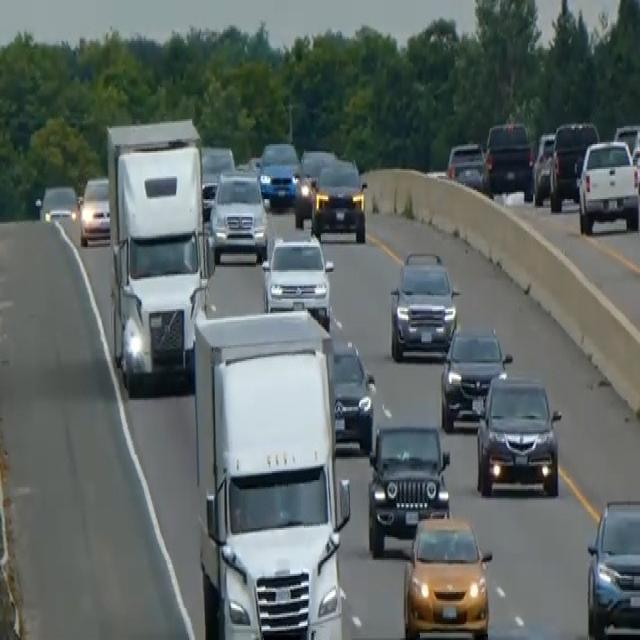car: (366, 421, 451, 555), (403, 512, 493, 638), (475, 370, 562, 498), (439, 322, 512, 432), (389, 249, 458, 361), (585, 496, 639, 638), (262, 231, 334, 325), (576, 137, 639, 235), (208, 167, 267, 263), (329, 336, 375, 450), (311, 154, 367, 242), (548, 119, 599, 212), (483, 119, 534, 201), (293, 148, 336, 224), (257, 138, 302, 210), (199, 142, 235, 219), (36, 181, 80, 242), (79, 174, 111, 246), (445, 139, 485, 190), (613, 121, 639, 192), (532, 130, 555, 204), (300, 146, 335, 190)
lorry: (192, 306, 351, 636), (104, 116, 212, 394)
